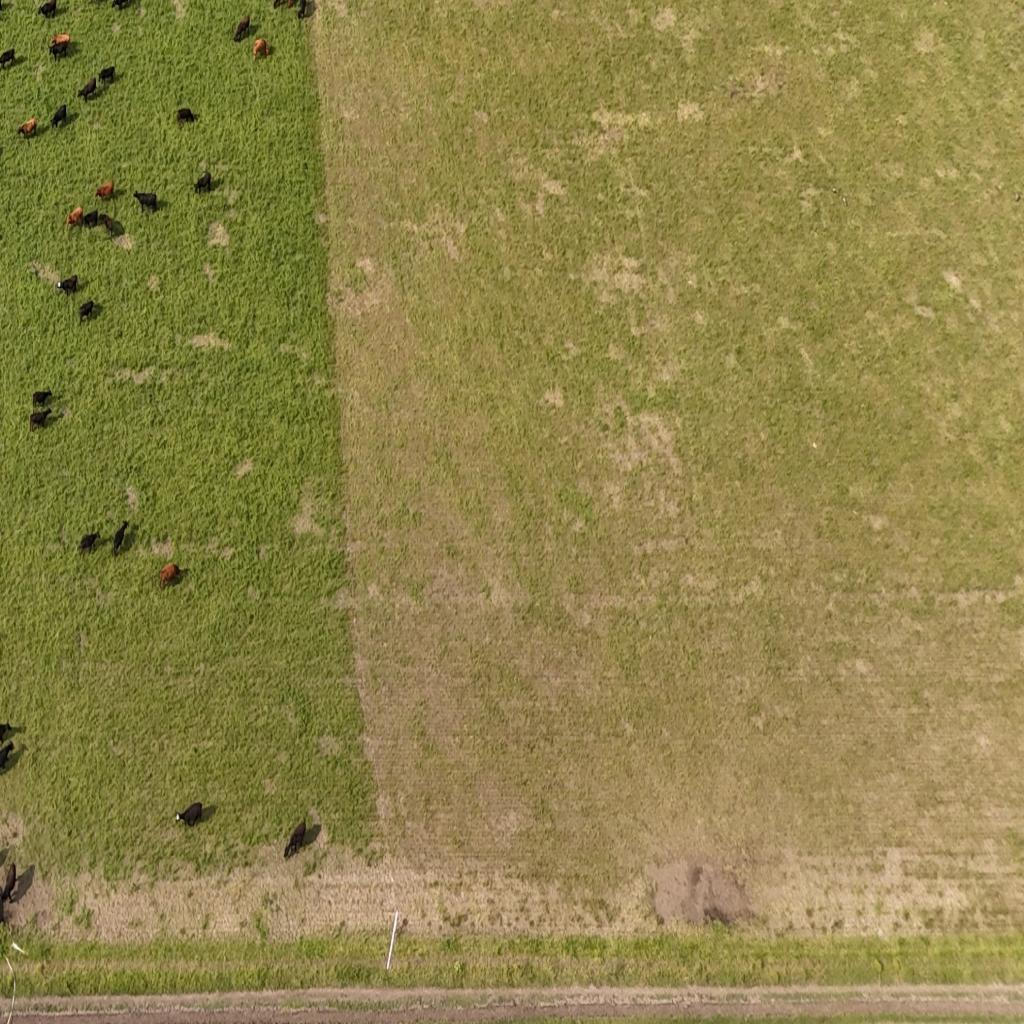cow: (0, 860, 24, 926), (283, 815, 311, 862), (173, 799, 212, 831), (187, 163, 219, 201), (77, 530, 101, 556), (158, 562, 182, 587), (136, 190, 160, 214), (28, 408, 52, 430), (0, 716, 20, 742), (0, 741, 16, 773), (78, 76, 96, 102), (233, 18, 251, 44), (32, 387, 53, 409), (17, 117, 36, 140), (113, 520, 128, 548), (78, 298, 94, 324), (51, 104, 67, 129), (58, 274, 78, 294), (98, 212, 114, 236), (95, 180, 114, 200), (50, 39, 68, 60), (98, 64, 115, 86), (37, 0, 56, 19), (84, 212, 103, 231), (66, 210, 84, 230), (253, 37, 269, 59), (176, 107, 196, 124), (0, 47, 16, 68), (294, 0, 310, 20), (50, 33, 70, 48), (114, 0, 136, 12), (272, 0, 284, 12), (55, 281, 62, 293)
